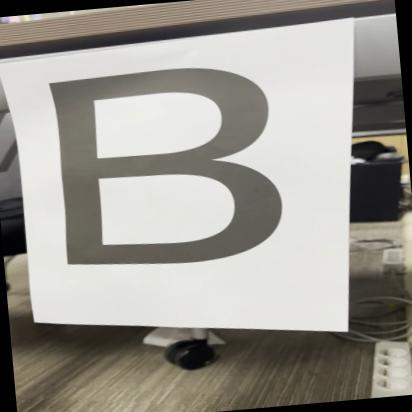seat: (33, 55, 306, 288)
